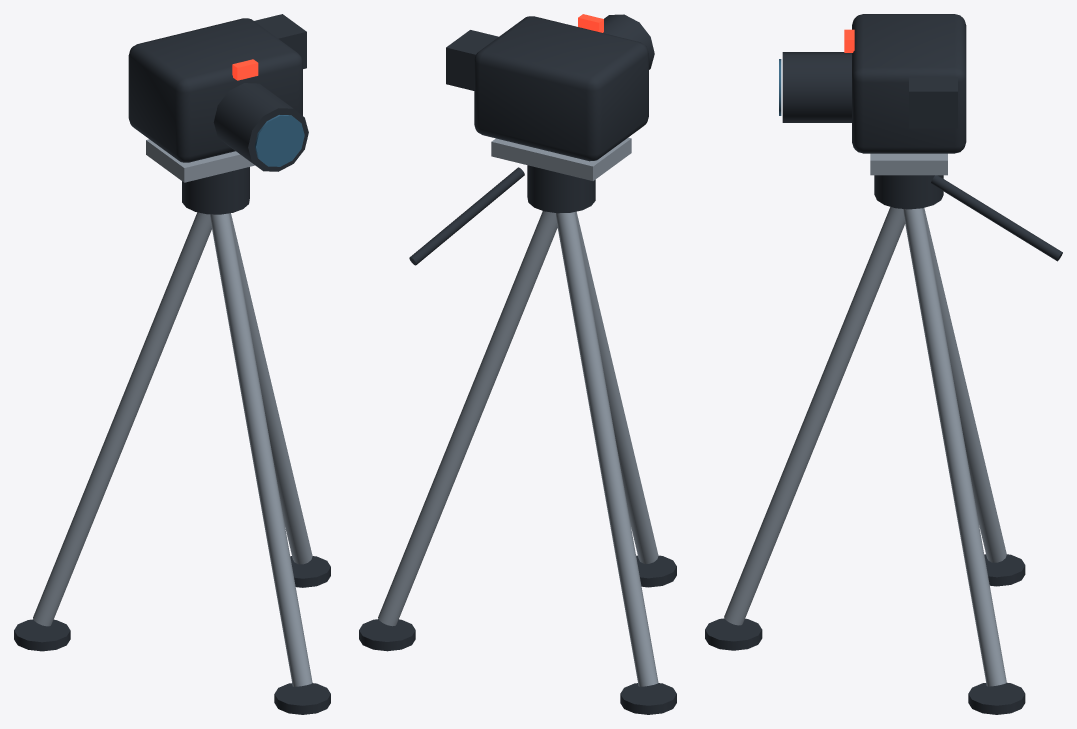
File: bb_set_studiocam.fbx
The picture shows the model from 3 angles, left to right: view 1: azimuth 30°, elevation 25°; view 2: azimuth 150°, elevation 25°; view 3: azimuth 270°, elevation 25°; orthographic projection.
Visible parts, largest first — view 1: bb_set_studiocam; view 2: bb_set_studiocam; view 3: bb_set_studiocam.
Boxes of the visible parts, <box> form: bb_set_studiocam: <box>14,14,330,714</box>; bb_set_studiocam: <box>359,14,676,714</box>; bb_set_studiocam: <box>705,14,1062,714</box>.
Bounding box in the file's own units: 0.8848 × 1.63 × 0.8769.
